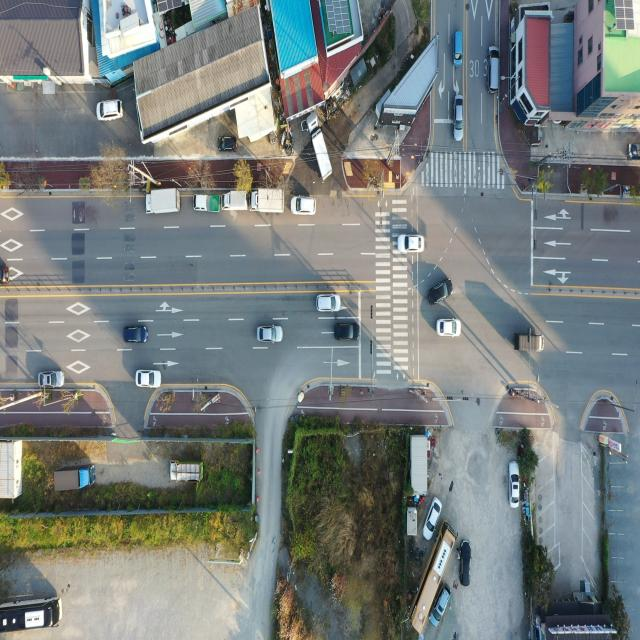car: (421, 495, 443, 541), (429, 584, 452, 622), (457, 538, 472, 588), (426, 280, 455, 304), (96, 98, 124, 122), (486, 43, 499, 94), (452, 94, 464, 146), (398, 234, 424, 254), (292, 196, 318, 216), (258, 324, 283, 344), (336, 322, 361, 341), (38, 371, 64, 389), (125, 325, 149, 344), (438, 318, 462, 337), (316, 293, 341, 311), (510, 463, 520, 508), (136, 369, 160, 387), (453, 29, 463, 67), (218, 136, 235, 152), (0, 264, 11, 286)
large_bus: (411, 520, 457, 638), (0, 596, 62, 634)
medium_truck: (308, 115, 335, 181), (53, 465, 95, 495), (146, 187, 184, 216), (251, 186, 284, 214)
small_truck: (167, 460, 204, 483), (516, 333, 548, 355), (221, 187, 248, 212), (194, 193, 221, 212)
